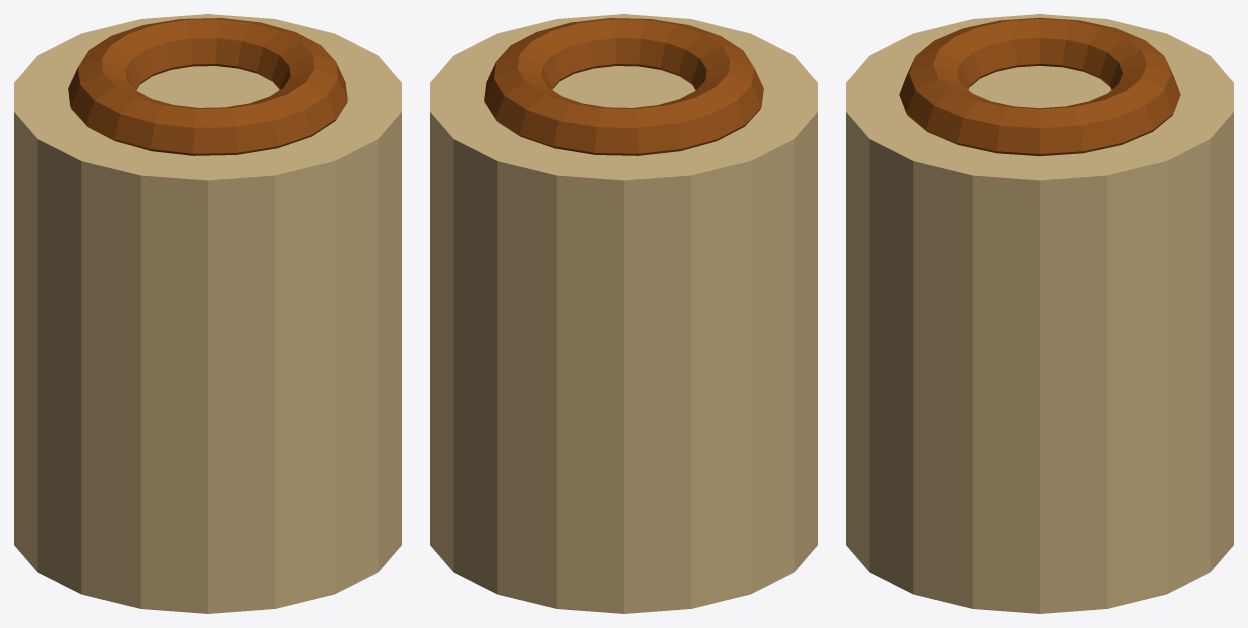
3 views of the same model, side by side, from view 1: azimuth 30°, elevation 25°; view 2: azimuth 150°, elevation 25°; view 3: azimuth 270°, elevation 25° (orthographic).
Visible parts, largest first — view 1: ivory, brass; view 2: ivory, brass; view 3: ivory, brass.
Boxes of the visible parts, x1=… form: ivory: x1=14, y1=14, x2=401, y2=613; brass: x1=68, y1=18, x2=347, y2=155; ivory: x1=430, y1=14, x2=817, y2=613; brass: x1=484, y1=18, x2=763, y2=155; ivory: x1=846, y1=14, x2=1233, y2=613; brass: x1=899, y1=17, x2=1180, y2=156.
Bounding box in the file's own units: 1.4 × 1.86 × 1.38.
